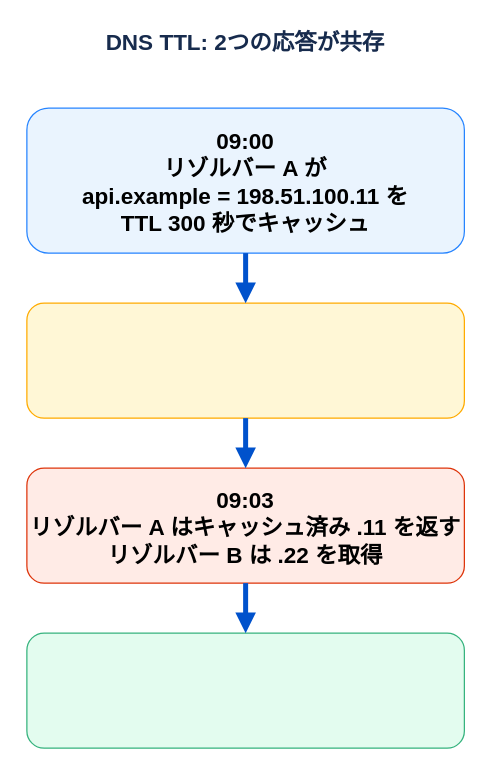
This 491x769 diagram has some shape labels left out. Here are the shapes that lost their labels. From the top down, the centre of each, then its label:
At point 245,360: "09:02 権威 DNS が api.example を 198.51.100.22 に変更".
At point 245,690: "09:05 リゾルバー A の TTL が期限切れ 次の問い合わせで .22 を取得".
